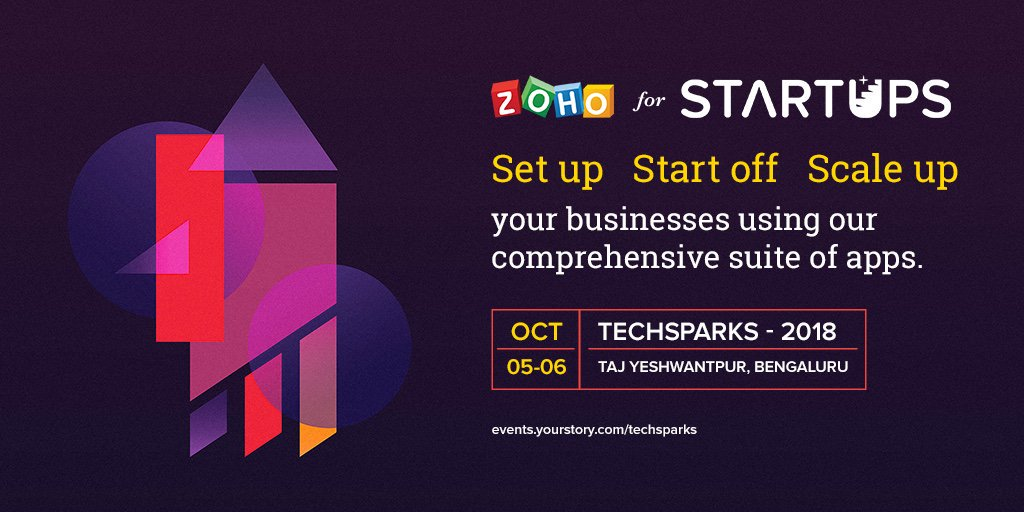zoho: (488, 70, 618, 120)
